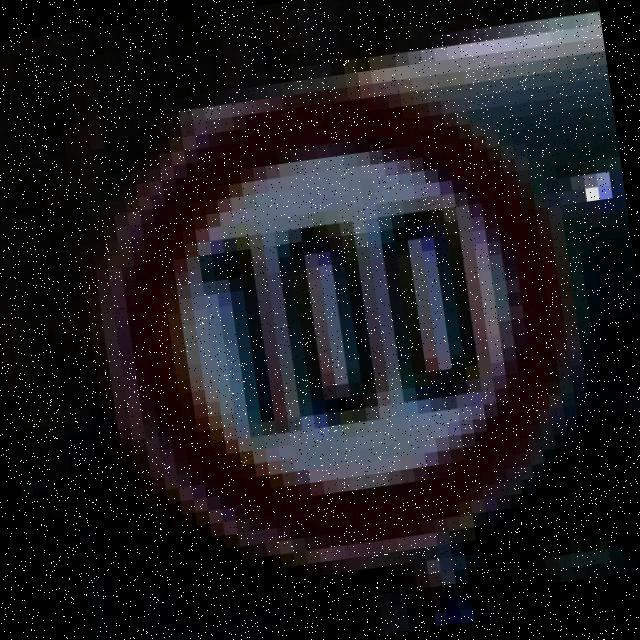Ograniczenie predkosci do 100: (96, 66, 604, 589)
